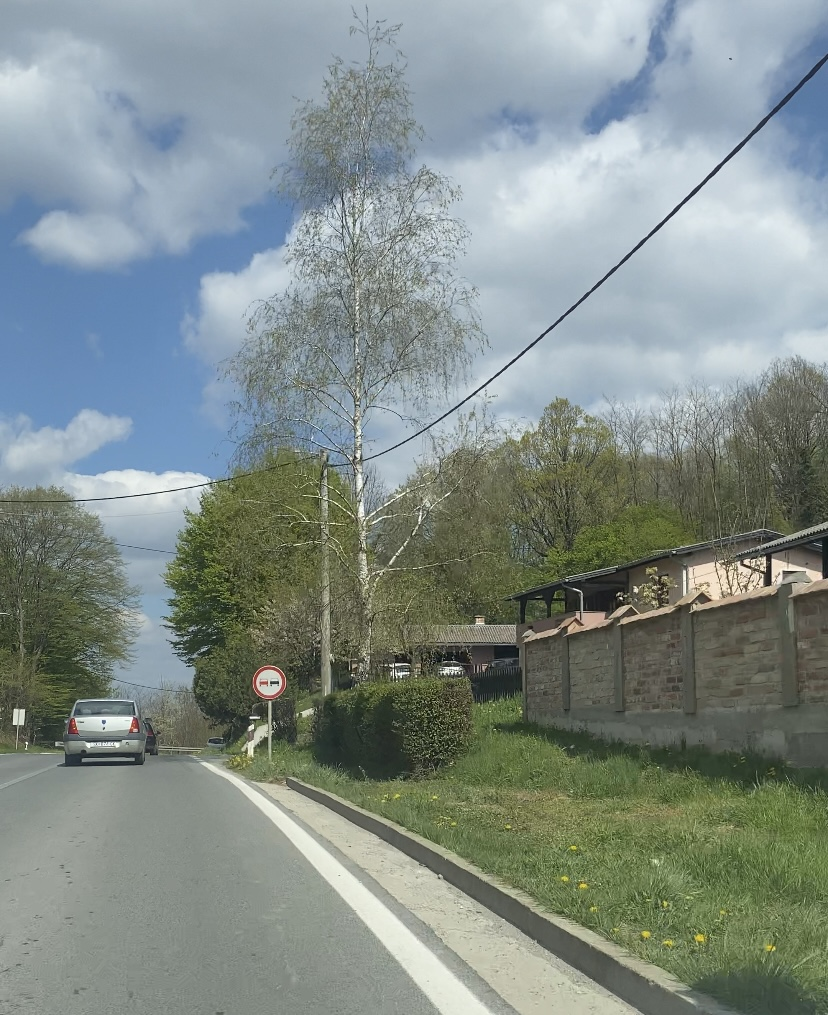Zabrana pretjecanja: (252, 665, 287, 699)
